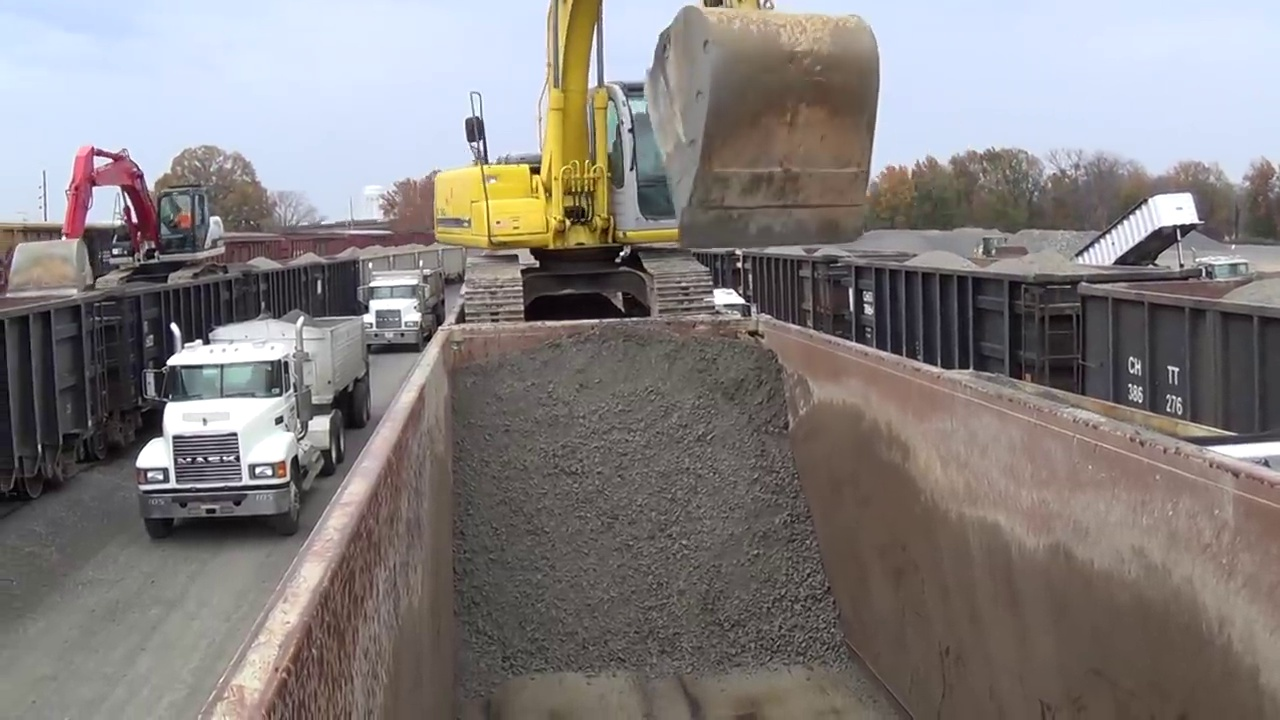excavator: (433, 3, 881, 334), (6, 145, 230, 310)
truck: (138, 319, 372, 534), (1074, 190, 1251, 302), (362, 269, 443, 349)
